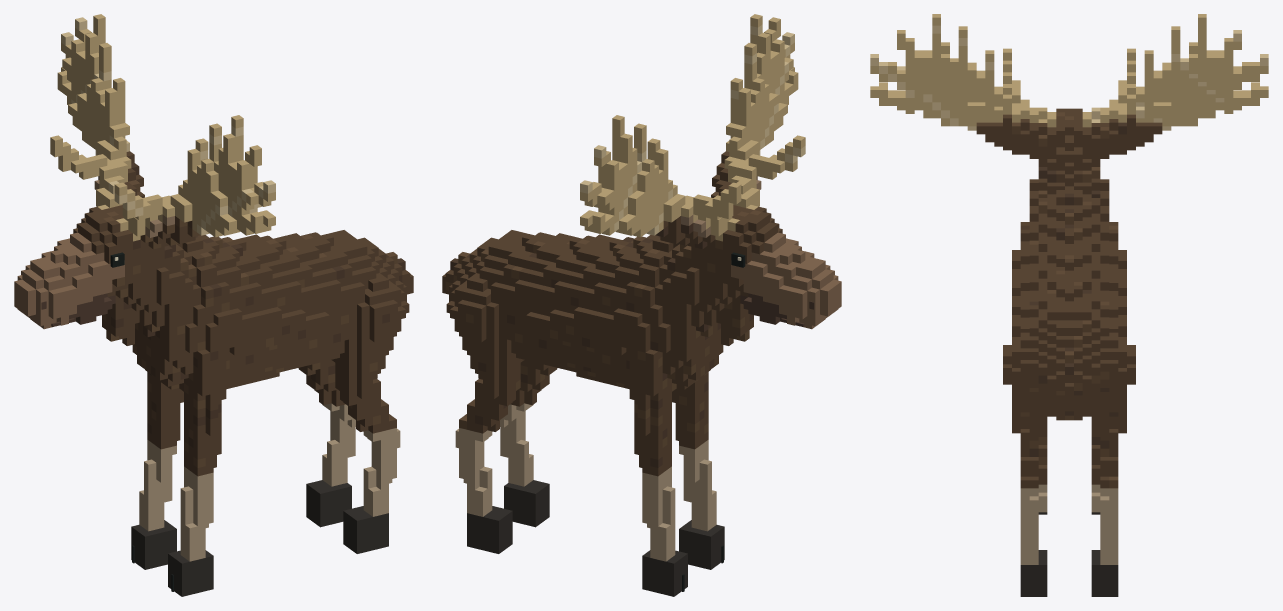
The model's file is Frostmoose.glb.
The picture shows the model from 3 angles, left to right: view 1: azimuth 30°, elevation 25°; view 2: azimuth 150°, elevation 25°; view 3: azimuth 270°, elevation 25°; orthographic projection. The views are drawn at different scales.
Visible parts, largest first — view 1: Pelagem e anatomia, Galhadas espalmadas, Focinho, Cascos; view 2: Pelagem e anatomia, Galhadas espalmadas, Focinho, Cascos; view 3: Pelagem e anatomia, Galhadas espalmadas, Cascos.
Part boxes in pixels (x1,y1,x2,y2): Pelagem e anatomia: (73, 151, 413, 561); Galhadas espalmadas: (50, 14, 275, 241); Focinho: (14, 232, 124, 329); Cascos: (131, 480, 388, 596); Pelagem e anatomia: (442, 151, 782, 561); Galhadas espalmadas: (580, 14, 805, 241); Focinho: (731, 232, 841, 329); Cascos: (467, 480, 724, 596); Pelagem e anatomia: (976, 108, 1162, 564); Galhadas espalmadas: (870, 14, 1268, 130); Cascos: (1020, 512, 1118, 596).
Bounding box in the file's own units: 3.68 × 4.57 × 3.38.
